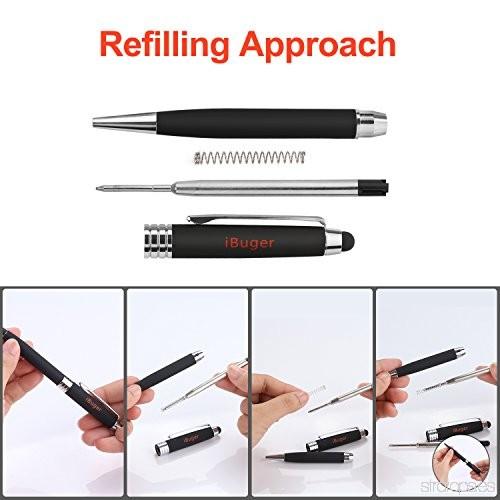Boligrafo: (1, 325, 124, 437), (91, 105, 392, 141), (380, 348, 471, 379)
